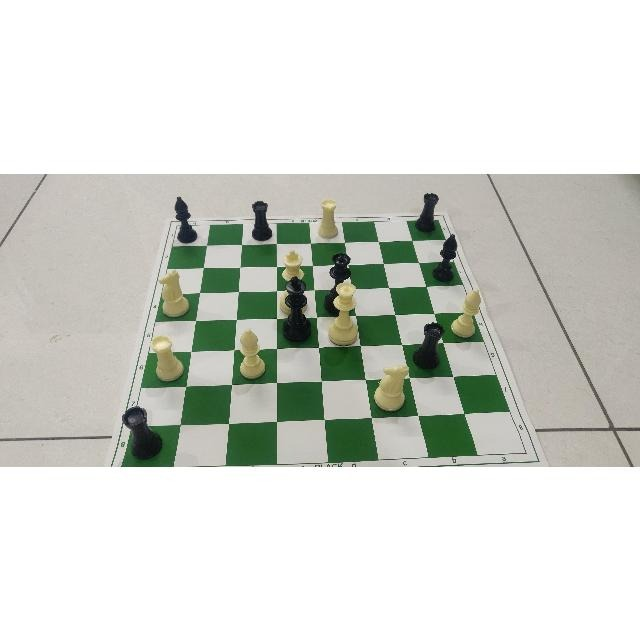black-bishop: (421, 261, 456, 279), (176, 226, 204, 241)
black-king: (282, 320, 316, 345)
black-queen: (316, 292, 354, 312)
black-rook: (402, 343, 451, 372), (126, 432, 171, 460), (408, 218, 445, 234), (245, 229, 277, 241)
white-bishop: (239, 351, 277, 381), (437, 312, 481, 337)
white-king: (278, 290, 312, 314)
white-knight: (369, 383, 415, 411), (159, 295, 193, 315)
white-queen: (324, 320, 358, 347)
white-rook: (152, 351, 185, 382), (313, 219, 341, 239)
